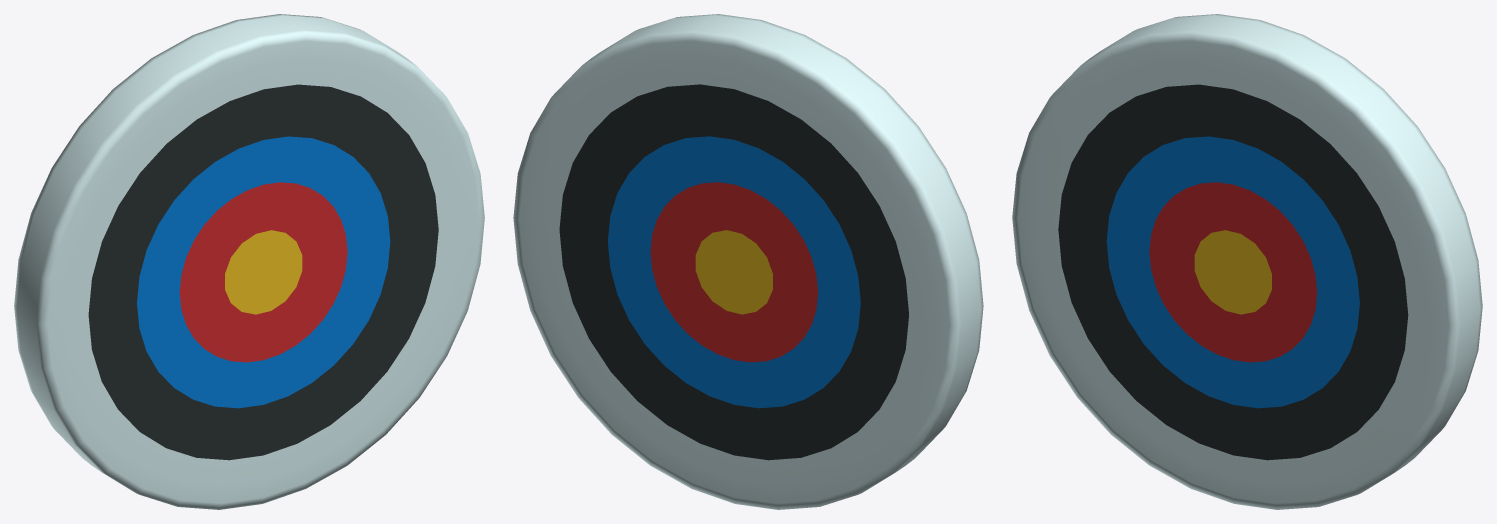
The model's file is Target.fbx.
The picture shows the model from 3 angles, left to right: view 1: azimuth 30°, elevation 25°; view 2: azimuth 150°, elevation 25°; view 3: azimuth 330°, elevation 25°; orthographic projection.
Parts seen in each view (by area): view 1: Target; view 2: Target; view 3: Target.
Boxes of the visible parts, x1,y1,x2,y2 form: Target: [14, 14, 484, 509]; Target: [513, 14, 983, 509]; Target: [1012, 14, 1482, 509].
Bounding box in the file's own units: 76.55 × 76.55 × 8.52.
1 material, 1 textured.
